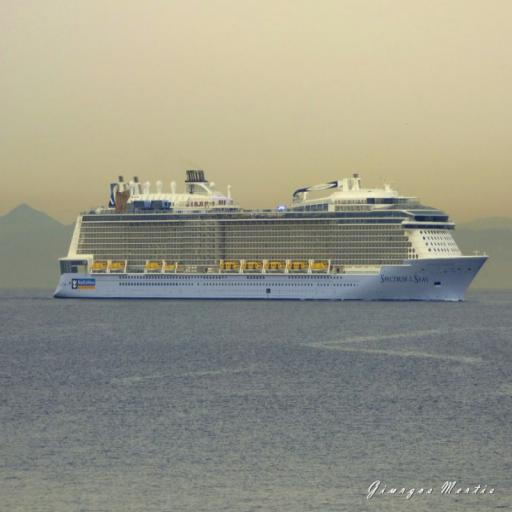cruises: (53, 165, 491, 309)
